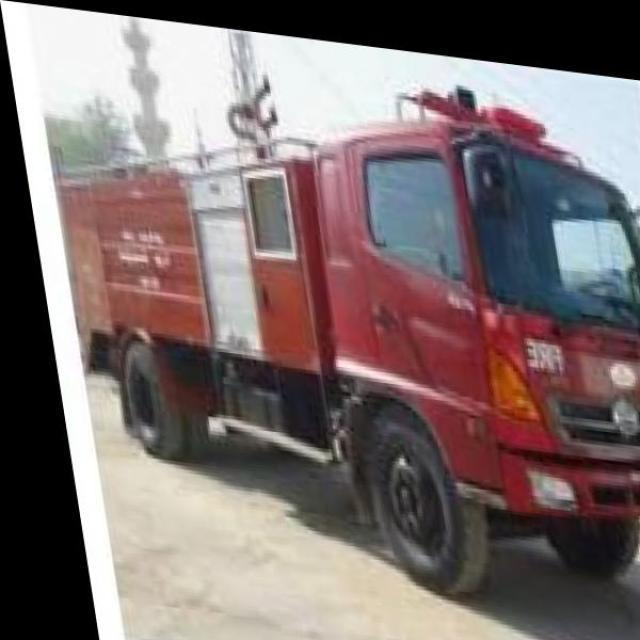emergency: (50, 96, 638, 596)
